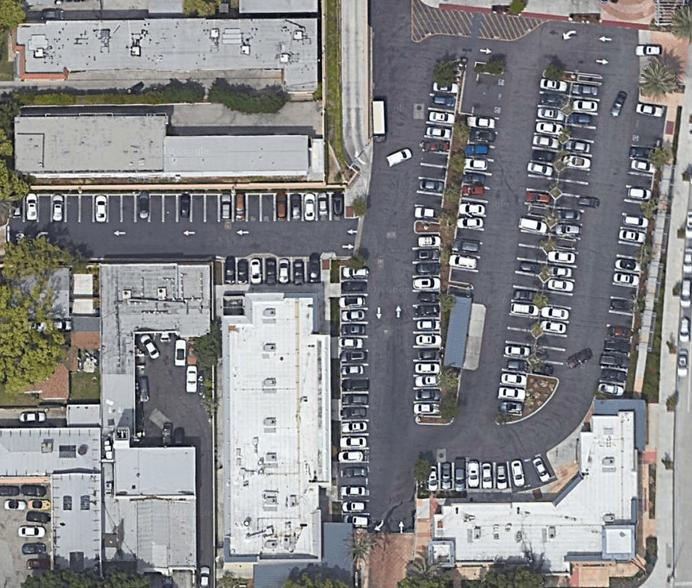parkingspot: (495, 77, 574, 415), (530, 81, 605, 381), (595, 101, 669, 397), (8, 192, 347, 224), (448, 115, 503, 287), (340, 265, 371, 529), (411, 79, 461, 225), (410, 232, 443, 418), (427, 452, 559, 495), (222, 255, 322, 286), (18, 483, 51, 572), (459, 68, 507, 119)
